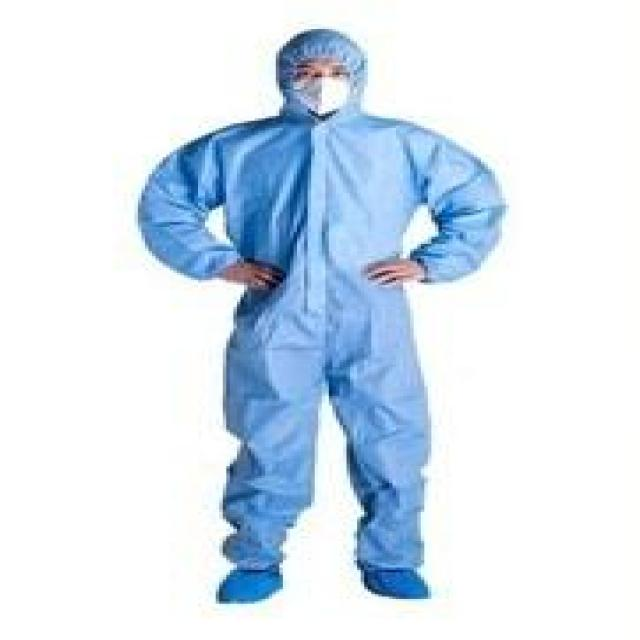Coverall: (128, 22, 524, 611)
Mask: (287, 73, 357, 102)
